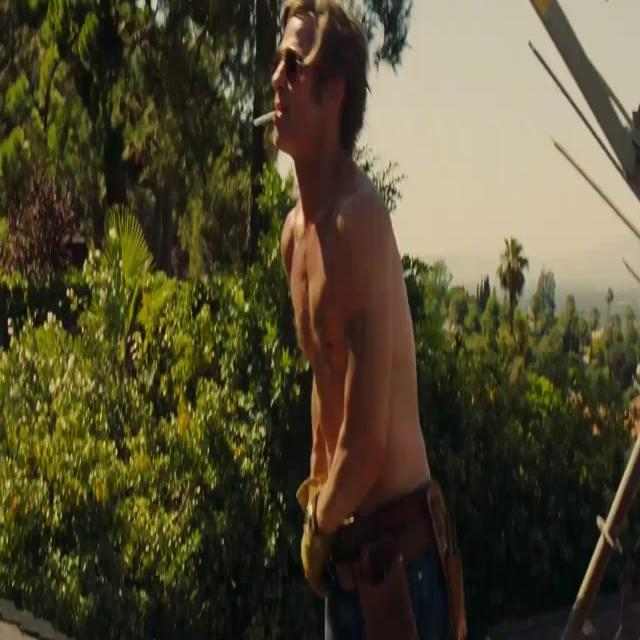Smooking: (248, 102, 280, 140)
